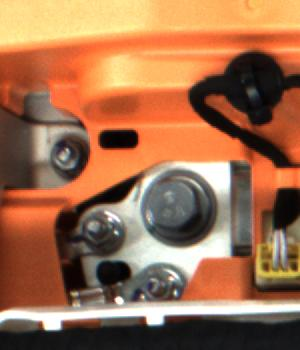nut_b: (139, 161, 220, 252)
screw_s: (48, 133, 89, 179), (142, 265, 179, 307), (83, 208, 125, 244)
